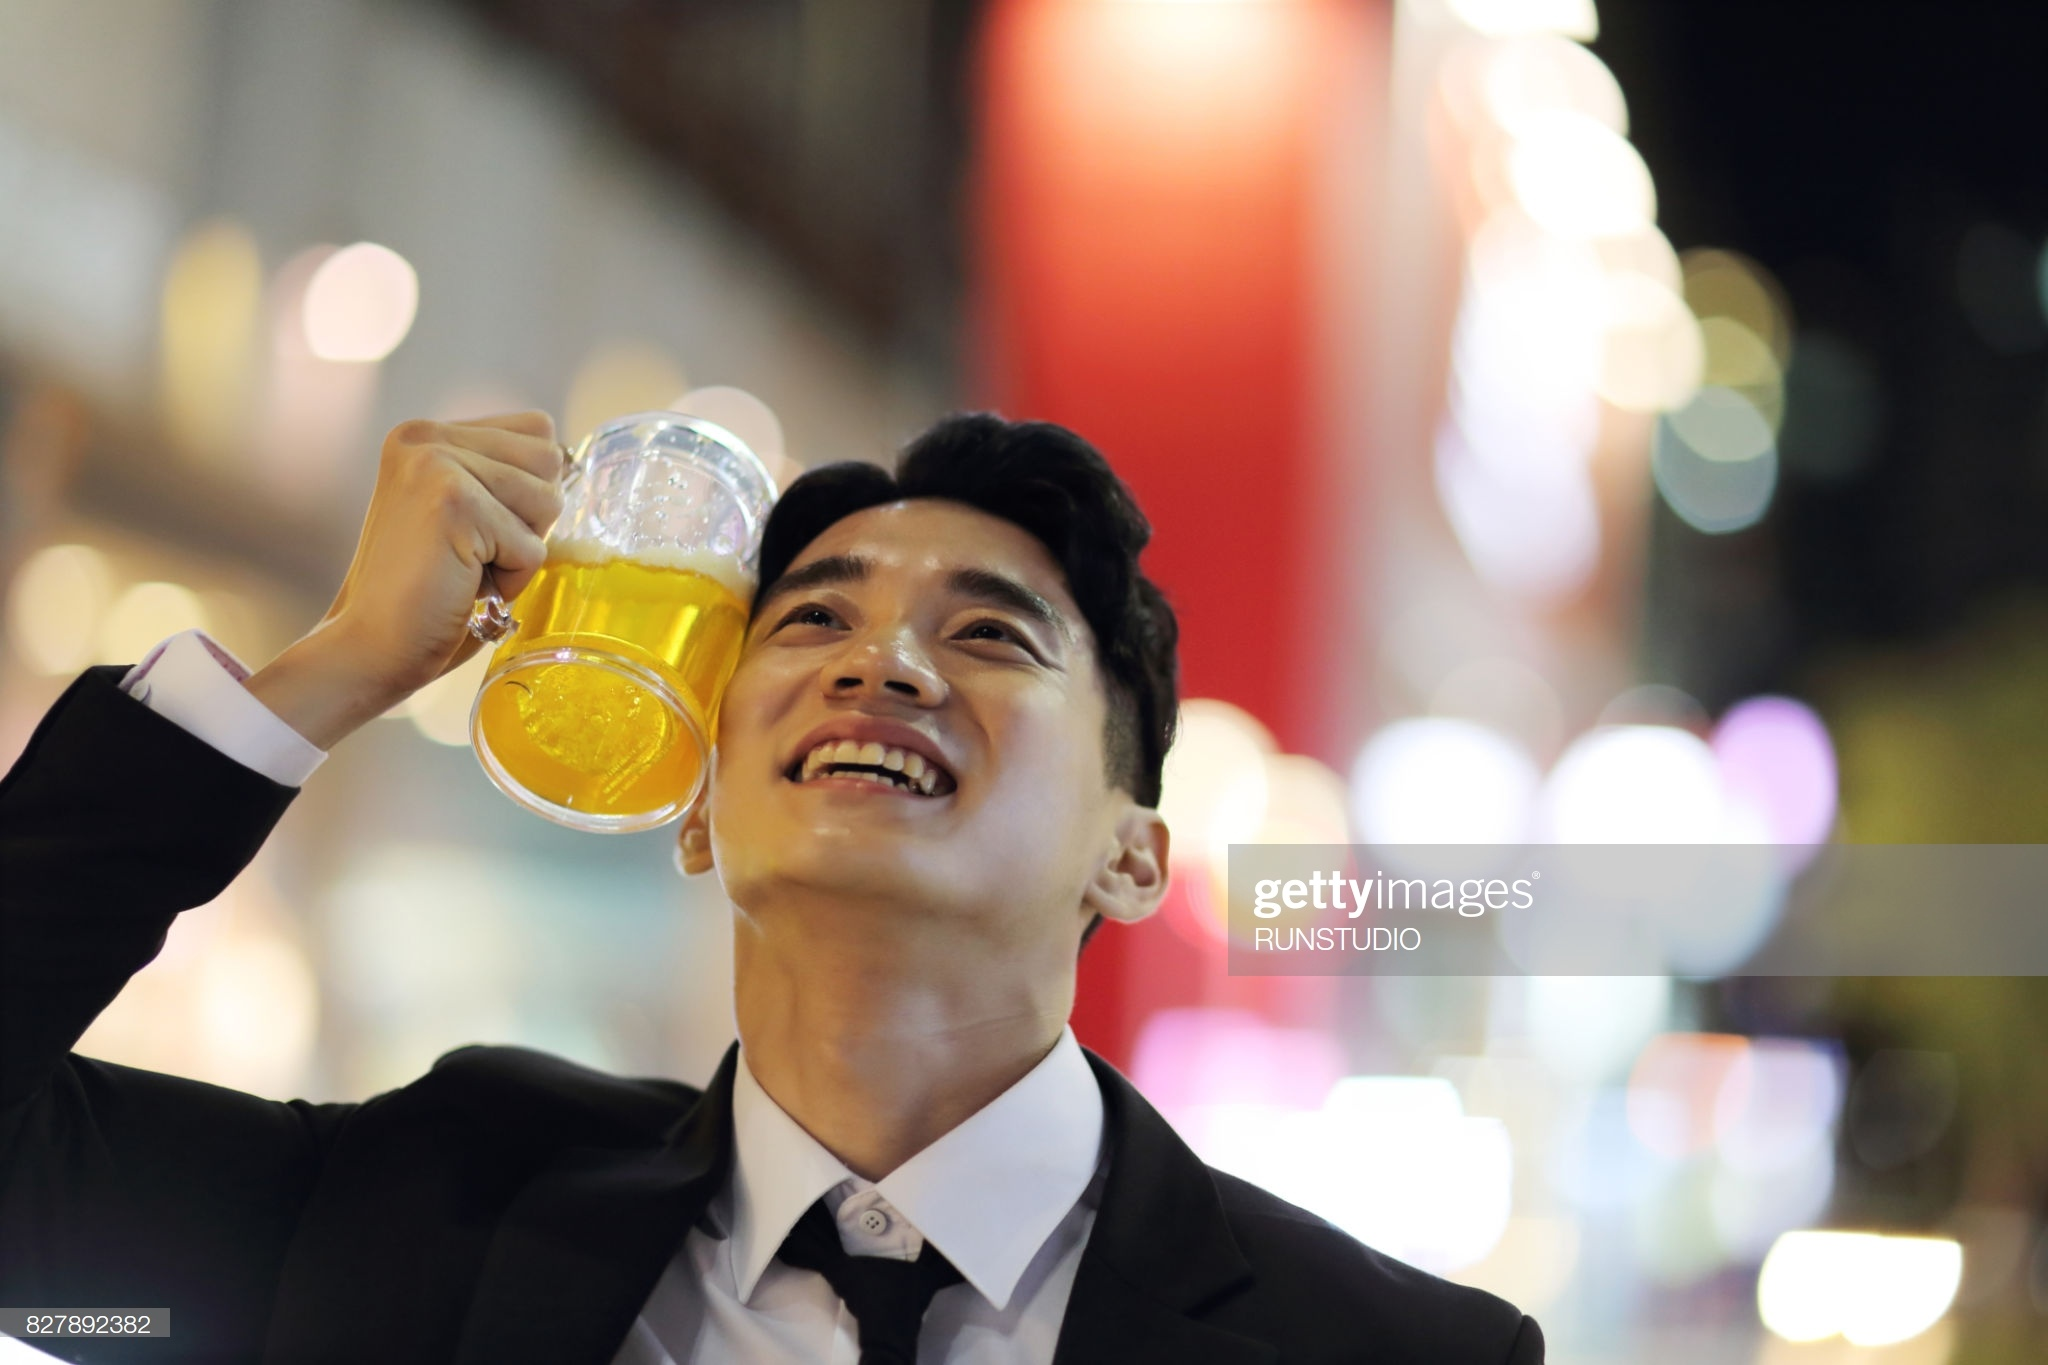glassBeer: (466, 424, 767, 807)
